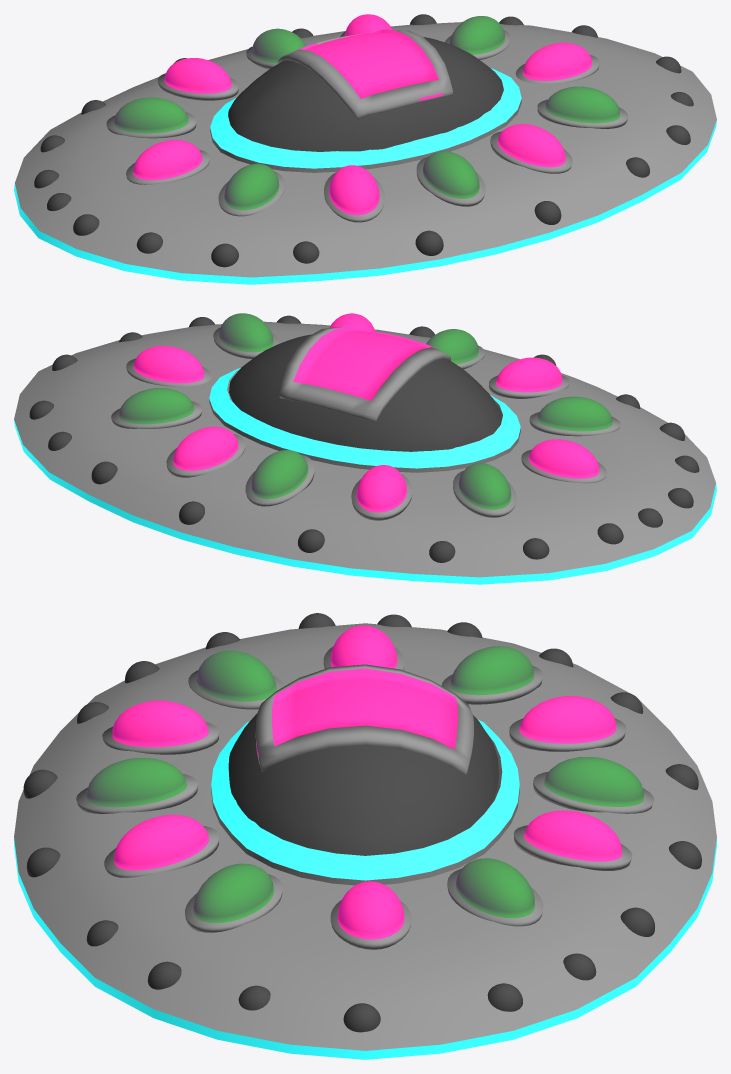
Rendered from UFO.fbx.
3 views of the same model, one above another, from view 1: azimuth 30°, elevation 25°; view 2: azimuth 150°, elevation 25°; view 3: azimuth 270°, elevation 25° (orthographic). The views are drawn at different scales.
Visible parts, largest first — view 1: UFOBase, UFOJellys, UFOmdidle, UFOTop, UFObobs; view 2: UFOBase, UFOJellys, UFOmdidle, UFOTop, UFObobs; view 3: UFOBase, UFOJellys, UFOmdidle, UFOTop, UFObobs.
Part boxes in pixels (box(x1,y1,x2,y2)): UFOBase: box(14, 22, 716, 284); UFOJellys: box(106, 14, 628, 222); UFOmdidle: box(228, 37, 503, 151); UFOTop: box(278, 29, 452, 118); UFObobs: box(34, 14, 693, 267); UFOBase: box(14, 321, 716, 584); UFOJellys: box(111, 313, 620, 520); UFOmdidle: box(229, 334, 501, 451); UFOTop: box(279, 327, 450, 421); UFObobs: box(29, 315, 699, 562); UFOBase: box(14, 623, 716, 1059); UFOJellys: box(76, 625, 654, 949); UFOmdidle: box(228, 713, 498, 855); UFOTop: box(255, 664, 473, 775); UFObobs: box(23, 613, 701, 1032).
Bounding box in the file's own units: 443 × 126 × 307.
